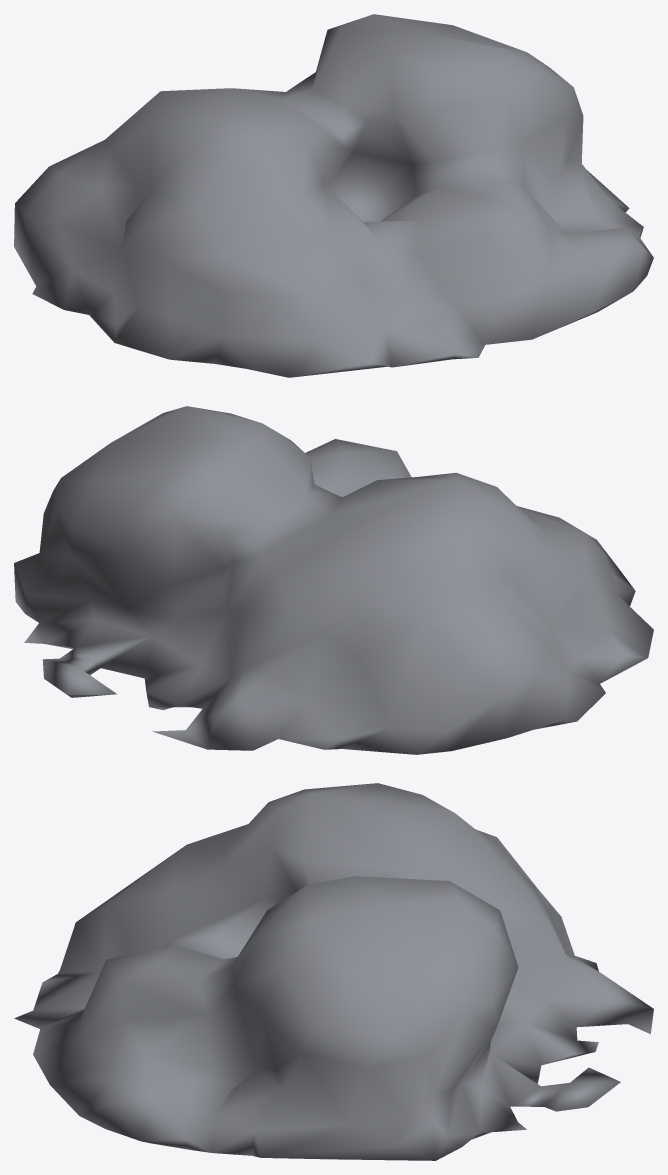
The picture shows the model from 3 angles, top to bottom: view 1: azimuth 30°, elevation 25°; view 2: azimuth 150°, elevation 25°; view 3: azimuth 270°, elevation 25°; orthographic projection. The views are drawn at different scales.
Parts seen in each view (by area): view 1: 둥근 강돌 무리; view 2: 둥근 강돌 무리; view 3: 둥근 강돌 무리.
Part boxes in pixels (x1=…): 둥근 강돌 무리: x1=14, y1=14, x2=653, y2=377; 둥근 강돌 무리: x1=14, y1=406, x2=653, y2=754; 둥근 강돌 무리: x1=14, y1=783, x2=653, y2=1160.
Bounding box in the file's own units: 82.51 × 27.8 × 81.24.
